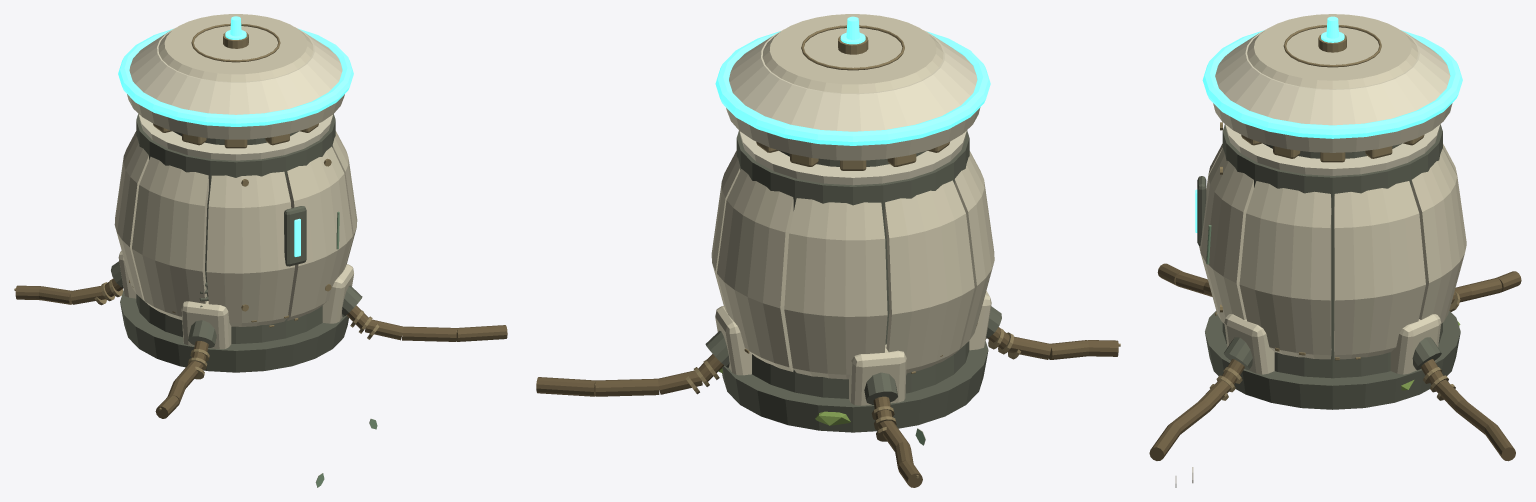
The model's file is Lake_Power_Station_Active.glb.
3 renders of one model, left to right at view 1: azimuth 30°, elevation 25°; view 2: azimuth 150°, elevation 25°; view 3: azimuth 270°, elevation 25°, orthographic. The views are drawn at different scales.
Parts seen in each view (by area): view 1: Structure, Lights; view 2: Structure, Lights; view 3: Structure, Lights.
Boxes of the visible parts, x1,y1,x2,y2 form: Structure: (14,14,507,487); Lights: (118,16,353,256); Structure: (536,14,1120,487); Lights: (715,16,990,145); Structure: (1149,14,1521,487); Lights: (1195,16,1462,232).
Size of the model in its own units: 3.68 by 4.27 by 3.11.
